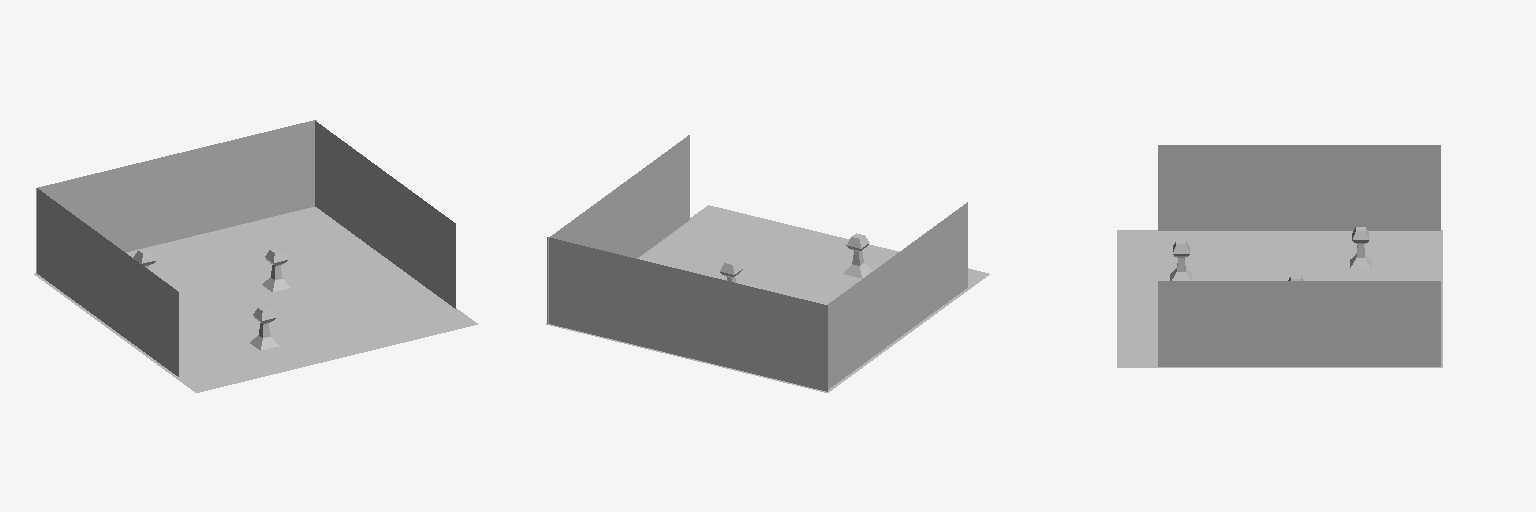
File: test_level_mapped.obj
3 renders of one model, left to right at view 1: azimuth 30°, elevation 25°; view 2: azimuth 150°, elevation 25°; view 3: azimuth 270°, elevation 25°, orthographic.
Visible parts, largest first — view 1: mesh01; view 2: mesh01; view 3: mesh01.
Boxes of the visible parts, x1,y1,x2,y2 form: mesh01: [34, 120, 477, 392]; mesh01: [546, 135, 989, 392]; mesh01: [1117, 145, 1442, 367].
Bounding box in the file's own units: 547 × 161 × 547.